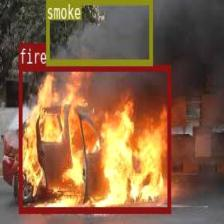fire: (18, 64, 170, 212)
smoke: (46, 0, 152, 64)
